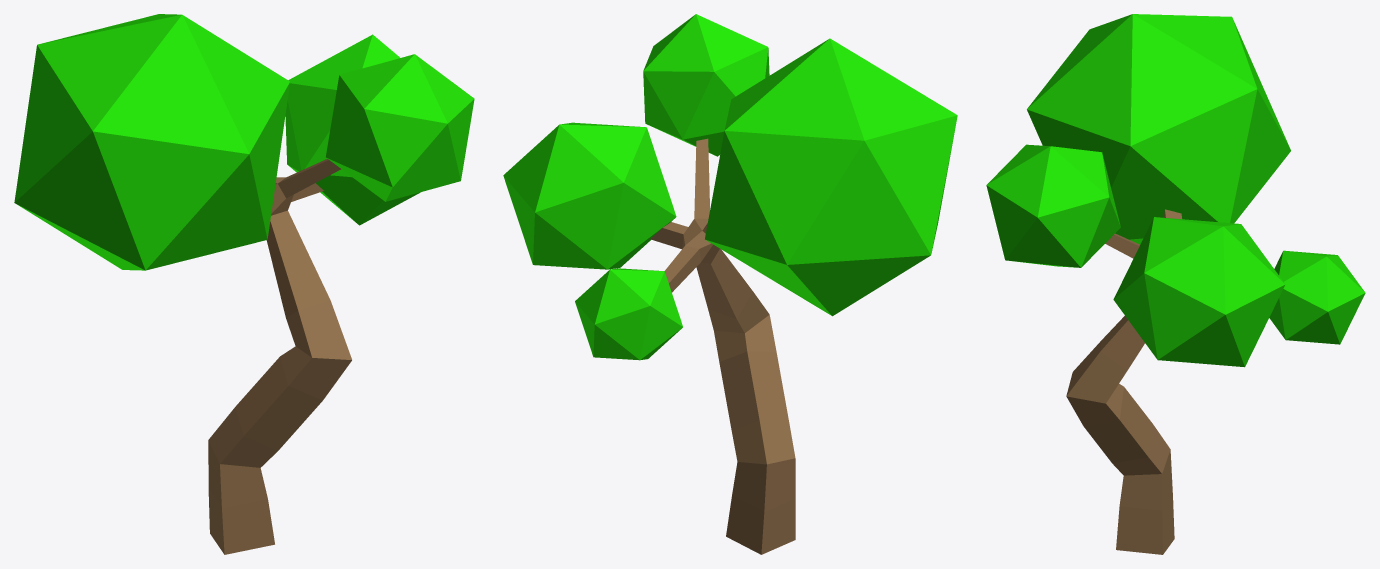
The model's file is Tree2.fbx.
3 views of the same model, side by side, from view 1: azimuth 30°, elevation 25°; view 2: azimuth 150°, elevation 25°; view 3: azimuth 270°, elevation 25° (orthographic). The views are drawn at different scales.
Visible parts, largest first — view 1: Icosphere.014, Cube.002, Icosphere.012, Icosphere.016; view 2: Icosphere.014, Cube.002, Icosphere.016, Icosphere.012, Icosphere.013; view 3: Icosphere.014, Icosphere.016, Cube.002, Icosphere.012, Icosphere.013.
Part boxes in pixels (<box>): Icosphere.014: <box>14,14,289,270</box>; Cube.002: <box>208,159,351,554</box>; Icosphere.012: <box>326,54,474,201</box>; Icosphere.016: <box>285,34,420,225</box>; Icosphere.014: <box>705,38,957,316</box>; Cube.002: <box>650,138,795,554</box>; Icosphere.016: <box>503,122,676,269</box>; Icosphere.012: <box>643,14,769,156</box>; Icosphere.013: <box>575,268,682,360</box>; Icosphere.014: <box>1027,14,1290,244</box>; Icosphere.016: <box>1113,217,1285,367</box>; Cube.002: <box>1066,209,1181,554</box>; Icosphere.012: <box>986,144,1120,267</box>; Icosphere.013: <box>1269,250,1365,344</box>.
Bounding box in the file's own units: 1109 × 910 × 1330.
